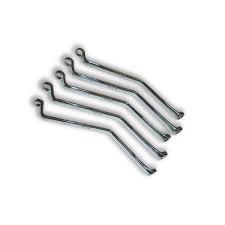wrench: (39, 80, 168, 160), (31, 97, 157, 176), (61, 55, 182, 136), (53, 68, 170, 143), (72, 46, 184, 120)
